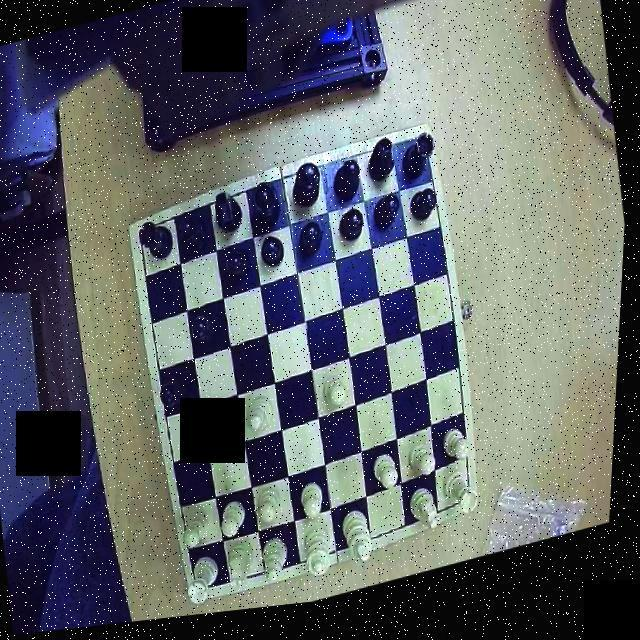chess-table-corners: (133, 220, 169, 256), (191, 571, 224, 605), (402, 138, 436, 170), (457, 493, 485, 524)
